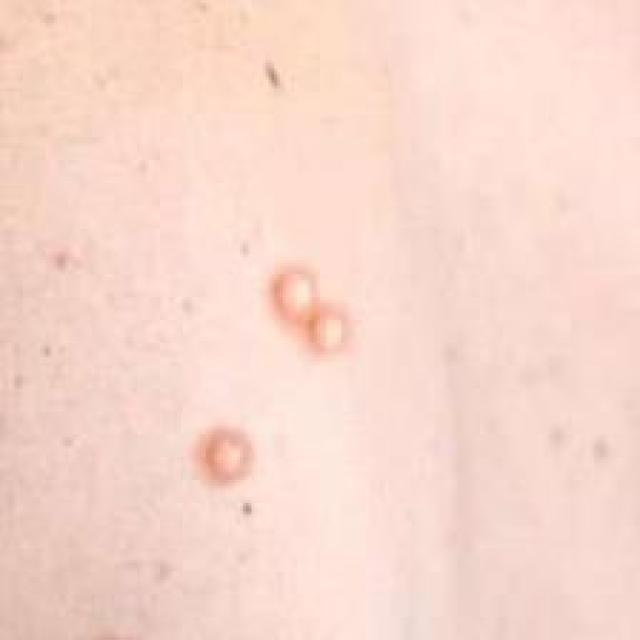monkeypox: (54, 83, 576, 623)
